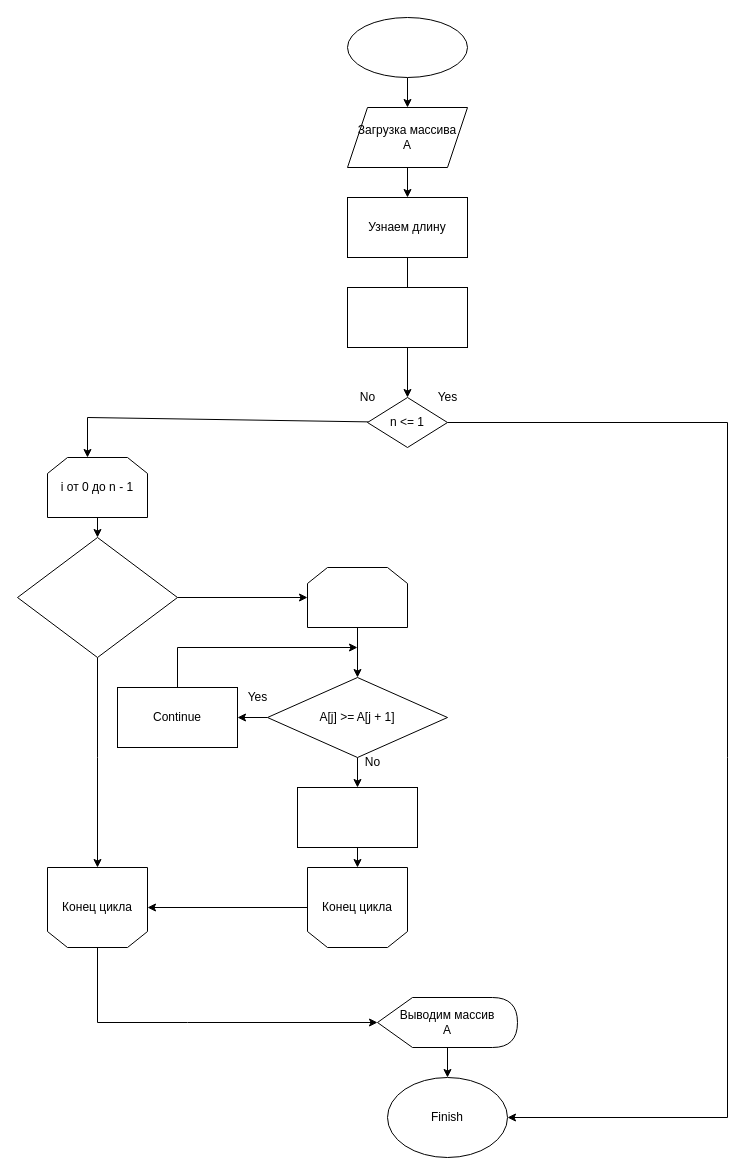
This 753x1175 diagram has some shape labels left out. The centre of each missing label's shape, as x and y in pixels:
"j от 0 до n - i - 1" belongs at (x=357, y=597).
"n = длина массива" belongs at (x=407, y=317).
"Srart" belongs at (x=407, y=47).
"Меняем элементы местами" belongs at (x=357, y=817).
"Переход во внутренний цикл" belongs at (x=97, y=597).
